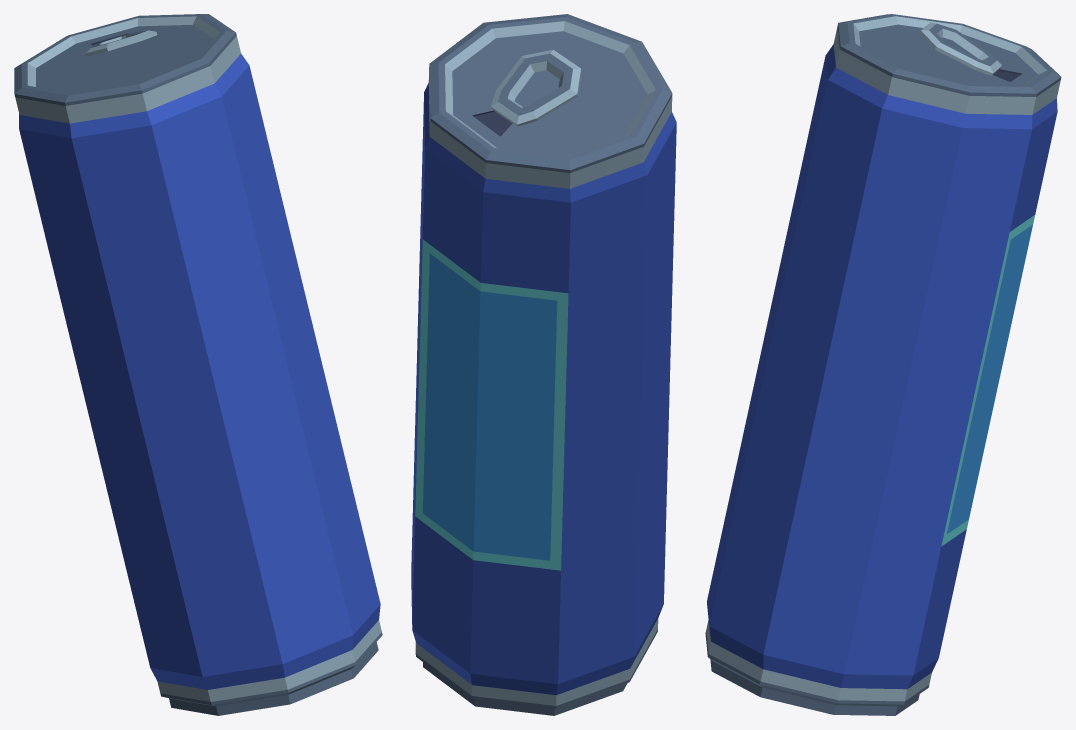
File: DrSwerve.EnergOnion.fbx
The picture shows the model from 3 angles, left to right: view 1: azimuth 30°, elevation 25°; view 2: azimuth 150°, elevation 25°; view 3: azimuth 270°, elevation 25°; orthographic projection. The views are drawn at different scales.
Visible parts, largest first — view 1: DrSwerve.EnergOnion; view 2: DrSwerve.EnergOnion; view 3: DrSwerve.EnergOnion.
Part boxes in pixels (left/top/right/bottom): DrSwerve.EnergOnion: left=14, top=14, right=382, bottom=715; DrSwerve.EnergOnion: left=411, top=14, right=676, bottom=715; DrSwerve.EnergOnion: left=705, top=14, right=1061, bottom=715.
Bounding box in the file's own units: 35.65 × 78.23 × 39.6.
